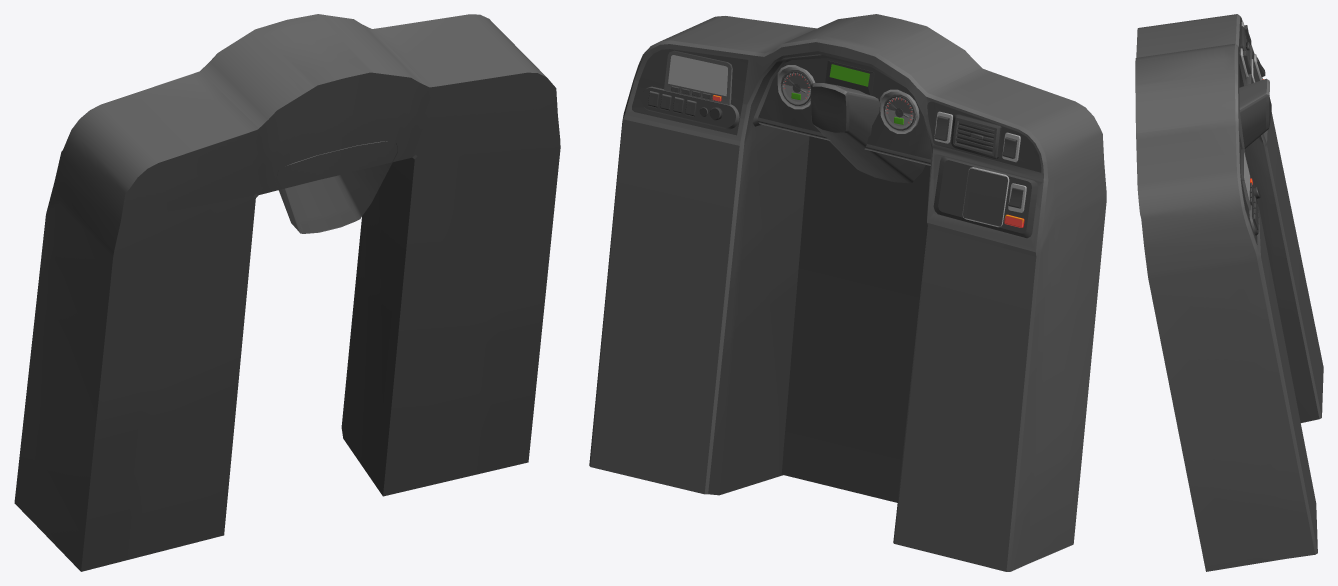
File: car dash 1.fbx
The picture shows the model from 3 angles, left to right: view 1: azimuth 30°, elevation 25°; view 2: azimuth 150°, elevation 25°; view 3: azimuth 270°, elevation 25°; orthographic projection. The views are drawn at different scales.
Parts seen in each view (by area): view 1: polySurface100; view 2: polySurface100; view 3: polySurface100.
Part boxes in pixels (bbox=[...]): polySurface100: bbox=[14, 14, 560, 571]; polySurface100: bbox=[589, 14, 1106, 571]; polySurface100: bbox=[1135, 14, 1323, 571].
Bounding box in the file's own units: 359 × 371 × 151.
